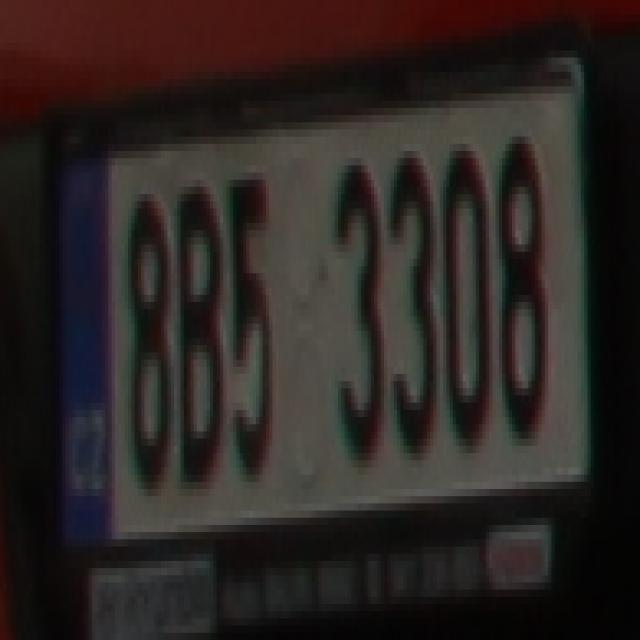0: (440, 136, 492, 454)
3: (332, 165, 391, 482), (387, 144, 440, 453)
5: (230, 173, 279, 482)
8: (492, 122, 555, 446), (119, 187, 168, 496)
B: (174, 180, 226, 503)
